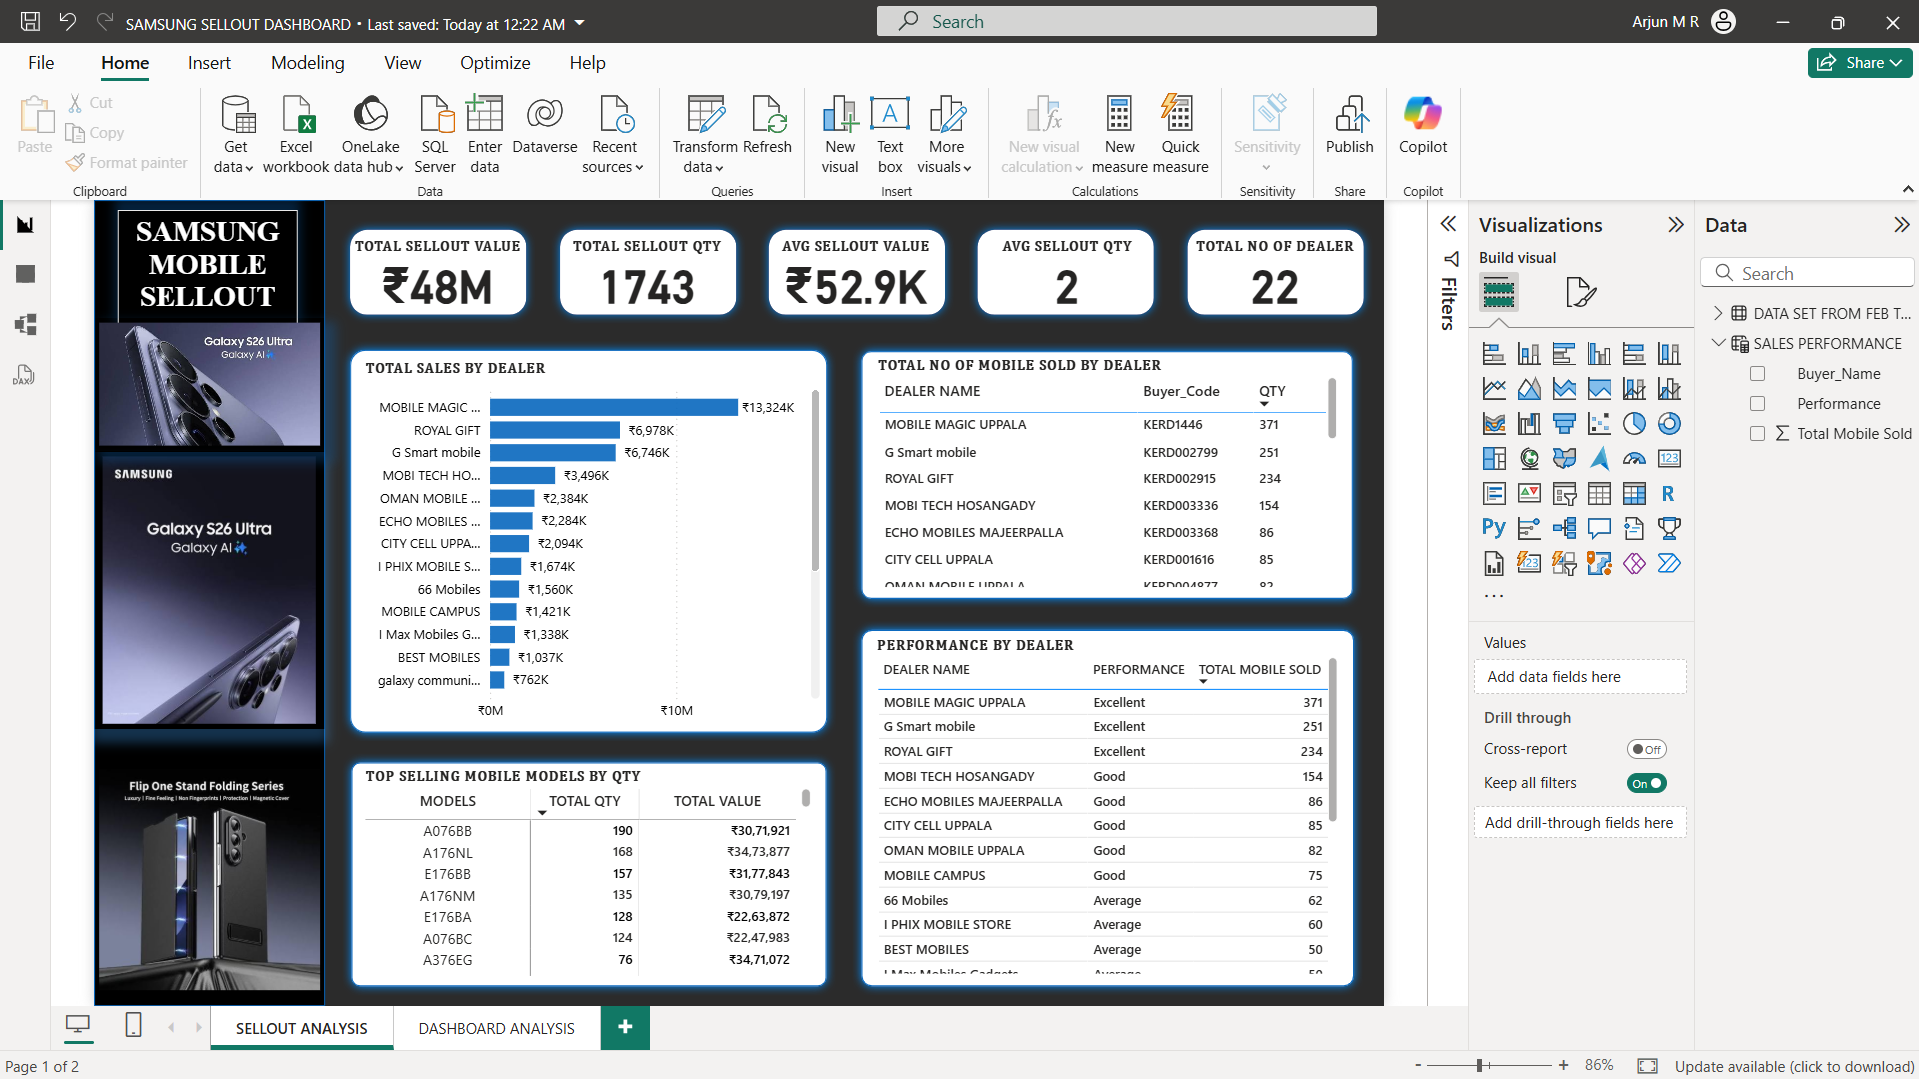

The dashboard page shown, as its layout file describes it:
{"tool":"powerbi","page":{"name":"SELLOUT ANALYSIS","canvas":[1200,750],"ordinal":0},"visuals":[{"type":"shape","box":[0,0,215.2,750.2],"z":0},{"type":"textbox","box":[22.1,9.3,167.5,111.7],"z":1000},{"type":"shape","box":[230.4,20.3,180,95],"z":2000},{"type":"card","title":"TOTAL SELLOUT VALUE","fields":{"Values":["Sum(DATA SET FROM FEB TO JULY.VALUE)"]},"box":[236.1,36.1,167.5,68.6],"z":3000},{"type":"shape","box":[230.3,131.4,460,372.2],"z":4000},{"type":"clusteredBarChart","title":"TOTAL SALES BY DEALER","fields":{"Category":["DATA SET FROM FEB TO JULY.Buyer_Name"],"Y":["Sum(DATA SET FROM FEB TO JULY.VALUE)"]},"box":[247.8,150,432.7,343.1],"z":5000},{"type":"shape","box":[231.5,515.3,458.3,224.5],"z":6000},{"type":"pivotTable","title":"TOP SELLING MOBILE MODELS BY QTY","fields":{"Rows":["DATA SET FROM FEB TO JULY.BASIC_Model"],"Values":["Sum(DATA SET FROM FEB TO JULY.QTY)","Sum(DATA SET FROM FEB TO JULY.VALUE)"]},"box":[247.8,529.2,424.6,197.7],"z":7000},{"type":"shape","box":[706,132.6,473.4,246.6],"z":8000},{"type":"tableEx","title":"TOTAL NO OF MOBILE SOLD BY DEALER","fields":{"Values":["DATA SET FROM FEB TO JULY.Buyer_Name","DATA SET FROM FEB TO JULY.Buyer_Code","Sum(DATA SET FROM FEB TO JULY.QTY)"]},"box":[724.6,146.6,437.3,218.7],"z":9000},{"type":"shape","box":[425.2,20.3,180,95],"z":10000},{"type":"card","title":"TOTAL SELLOUT QTY","fields":{"Values":["Sum(DATA SET FROM FEB TO JULY.QTY)"]},"box":[431.5,36.1,166.3,68.6],"z":11000},{"type":"shape","box":[619.9,20.3,180,95],"z":12000},{"type":"card","title":"AVG SELLOUT VALUE","fields":{"Values":["Avg(DATA SET FROM FEB TO JULY.VALUE)"]},"box":[629.3,36.1,159.4,68.6],"z":13000},{"type":"shape","box":[814.7,20.3,180,95],"z":14000},{"type":"card","title":"AVG SELLOUT QTY ","fields":{"Values":["Avg(DATA SET FROM FEB TO JULY.QTY)"]},"box":[822.4,36.1,166.3,68.6],"z":15000},{"type":"shape","box":[1009.4,20.3,180,95],"z":16000},{"type":"card","title":"TOTAL NO OF DEALER","fields":{"Values":["Count(DATA SET FROM FEB TO JULY.Buyer_Name)"]},"box":[1014.3,36.1,169.8,68.6],"z":17000},{"type":"shape","box":[706,392,474.6,347.8],"z":18000},{"type":"tableEx","title":"PERFORMANCE BY DEALER","fields":{"Values":["SALES PERFORMANCE.Buyer_Name","SALES PERFORMANCE.Performance","Sum(SALES PERFORMANCE.Total Mobile Sold)"]},"box":[723.5,407.1,438.5,317.5],"z":19000},{"type":"image","box":[0,233.8,215.2,258.2],"z":20000},{"type":"image","box":[0,109.3,215.2,124.5],"z":21000},{"type":"image","box":[0,515.3,215.2,235],"z":22000}]}

Visuals, with their boxes on the page's 1200x750 design canvas (x1, y1, x2, y2). These are canvas units, not pixel positions in the 1919x1079 screenshot, which may show the page scaled, cropped or inside an application window:
shape: Rect(0, 0, 215, 750)
textbox: Rect(22, 9, 190, 121)
shape: Rect(230, 20, 410, 115)
"TOTAL SELLOUT VALUE" card: Rect(236, 36, 404, 105)
shape: Rect(230, 131, 690, 504)
"TOTAL SALES BY DEALER" clusteredBarChart: Rect(248, 150, 680, 493)
shape: Rect(232, 515, 690, 740)
"TOP SELLING MOBILE MODELS BY QTY" pivotTable: Rect(248, 529, 672, 727)
shape: Rect(706, 133, 1179, 379)
"TOTAL NO OF MOBILE SOLD BY DEALER" tableEx: Rect(725, 147, 1162, 365)
shape: Rect(425, 20, 605, 115)
"TOTAL SELLOUT QTY" card: Rect(432, 36, 598, 105)
shape: Rect(620, 20, 800, 115)
"AVG SELLOUT VALUE" card: Rect(629, 36, 789, 105)
shape: Rect(815, 20, 995, 115)
"AVG SELLOUT QTY " card: Rect(822, 36, 989, 105)
shape: Rect(1009, 20, 1189, 115)
"TOTAL NO OF DEALER" card: Rect(1014, 36, 1184, 105)
shape: Rect(706, 392, 1181, 740)
"PERFORMANCE BY DEALER" tableEx: Rect(724, 407, 1162, 725)
image: Rect(0, 234, 215, 492)
image: Rect(0, 109, 215, 234)
image: Rect(0, 515, 215, 750)
